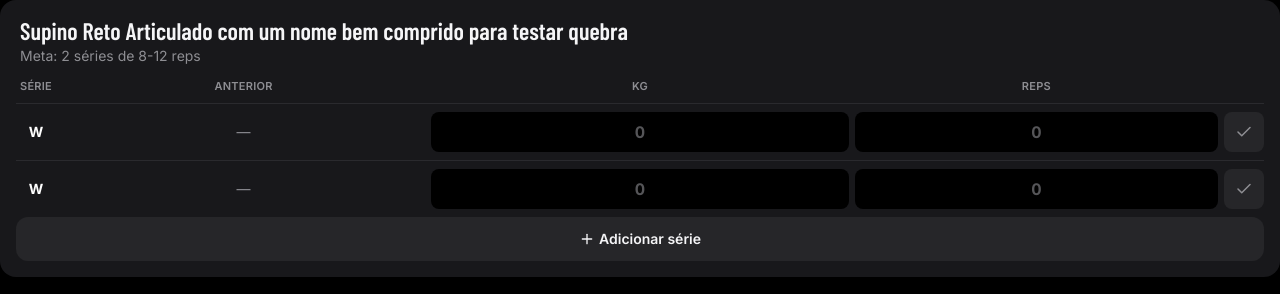
Test: ExerciseSessionCard › desfazer remove a série e devolve a linha vazia
Type "40" into the field named "Peso em kg".
click(640, 132); type("40")  # box [431,112,849,152]
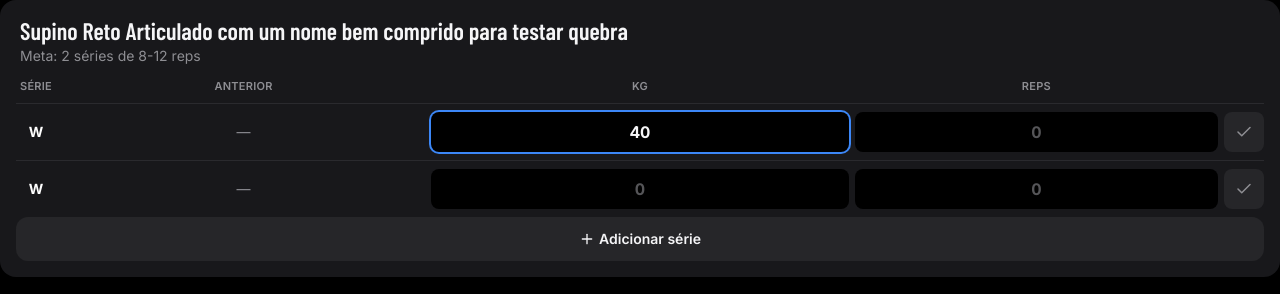
Type "8" into the field named "Repetições".
click(1036, 132); type("8")  # box [855,112,1218,152]
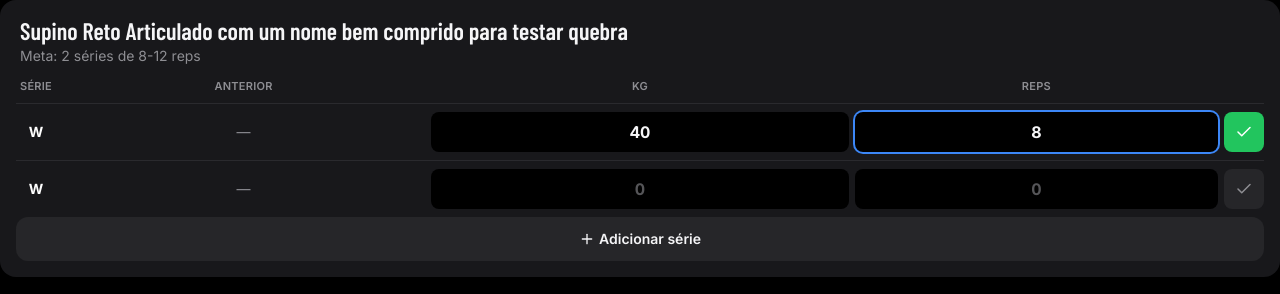
Click the 1st button named "Confirmar série".
click(1244, 132)  # box [1224,112,1264,152]
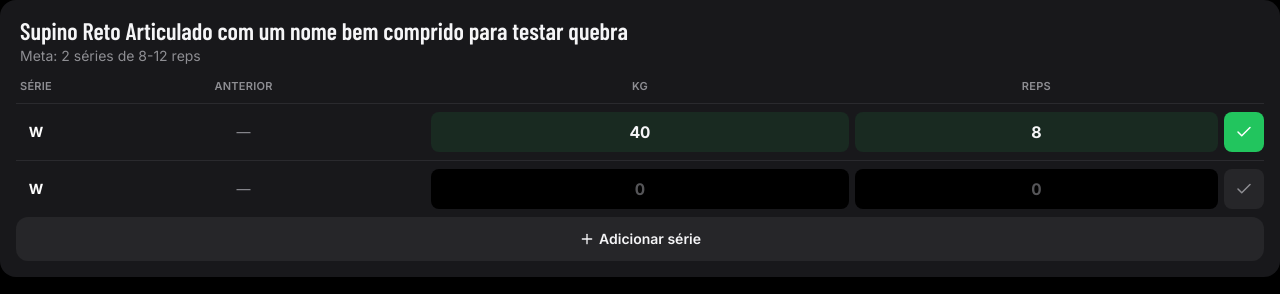
Click the button named "Desfazer série".
click(1244, 132)  # box [1224,112,1264,152]
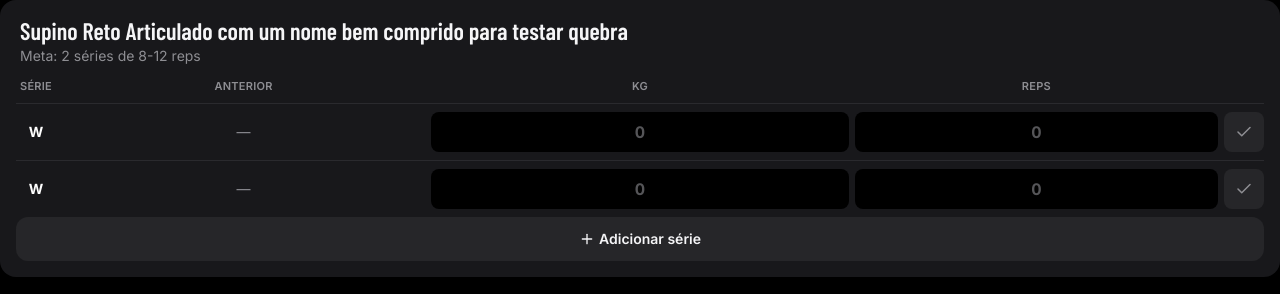
Expected: the number of fields named "Peso em kg" is 2, [431,112,849,152]; [431,168,849,208]
Expected: the field named "Peso em kg" is empty, [431,112,849,152]
